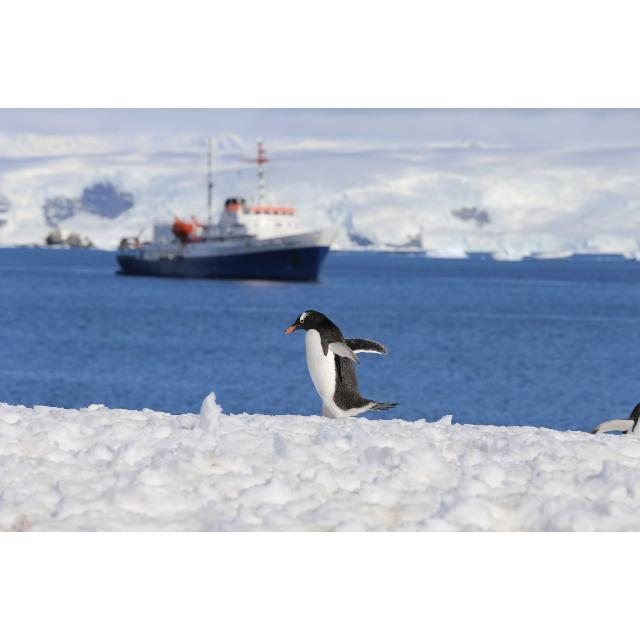penguin: (285, 310, 398, 422)
